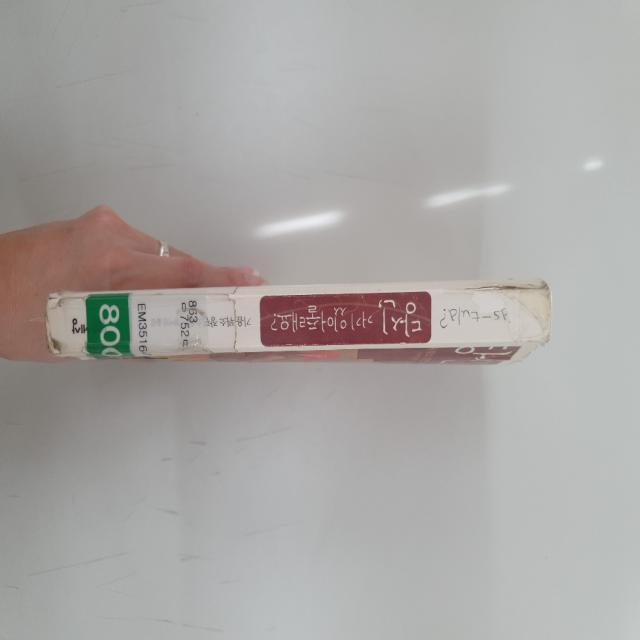Ripped: (459, 280, 554, 298)
Wornout: (43, 285, 66, 364), (538, 298, 555, 350)
